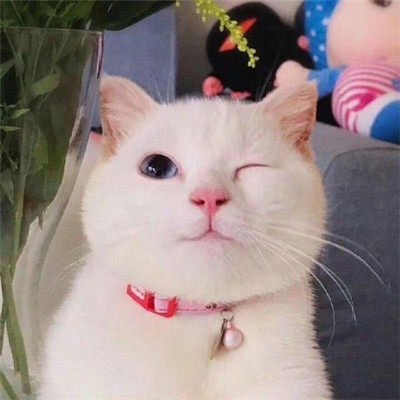cat: (74, 64, 358, 325)
